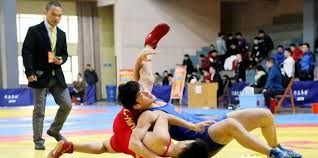10+: (19, 1, 317, 158)
down: (44, 17, 212, 157), (114, 47, 304, 157)
